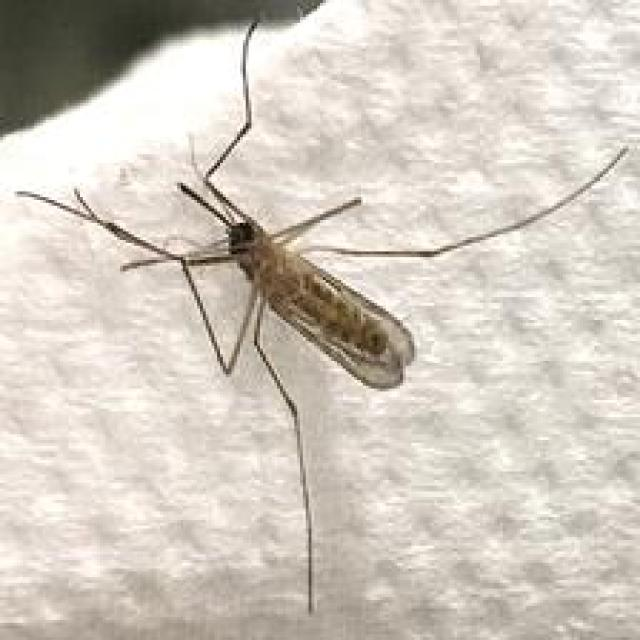Culex: (14, 13, 629, 616)
